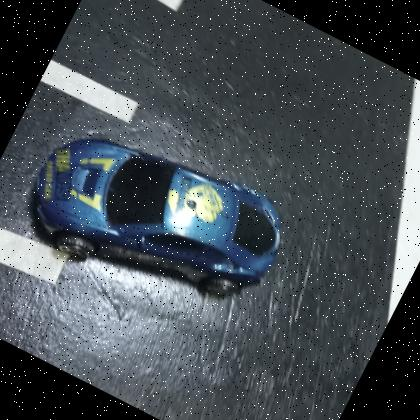Car: (9, 95, 304, 340)
